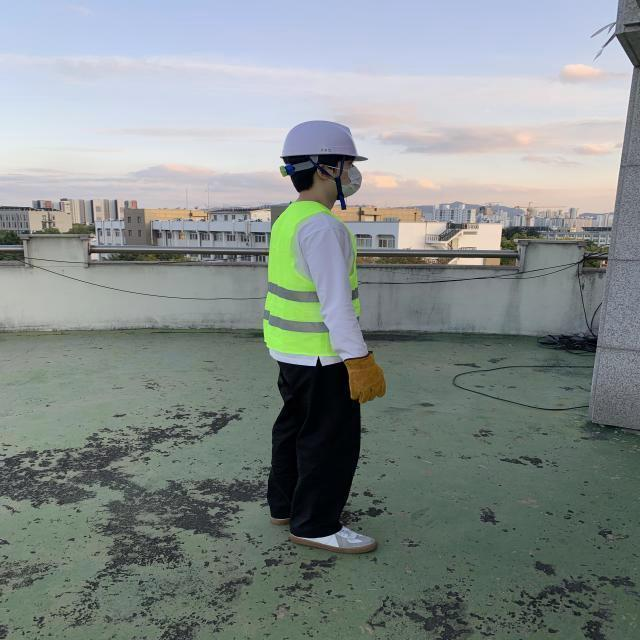vest: (263, 201, 361, 357)
